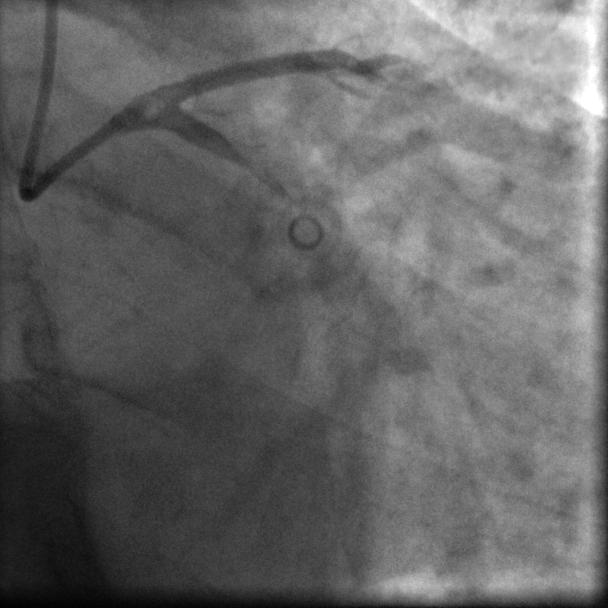Stenosis: (237, 138, 280, 160)
